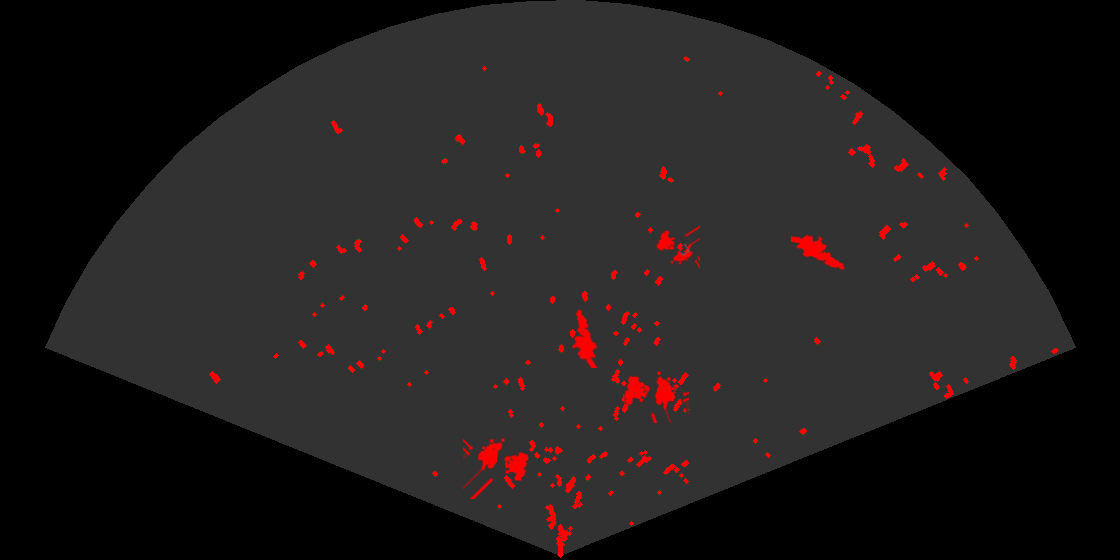cage: (463, 436, 530, 499), (623, 369, 689, 423), (655, 224, 700, 271)
frogman: (791, 233, 847, 271), (570, 308, 599, 368)
